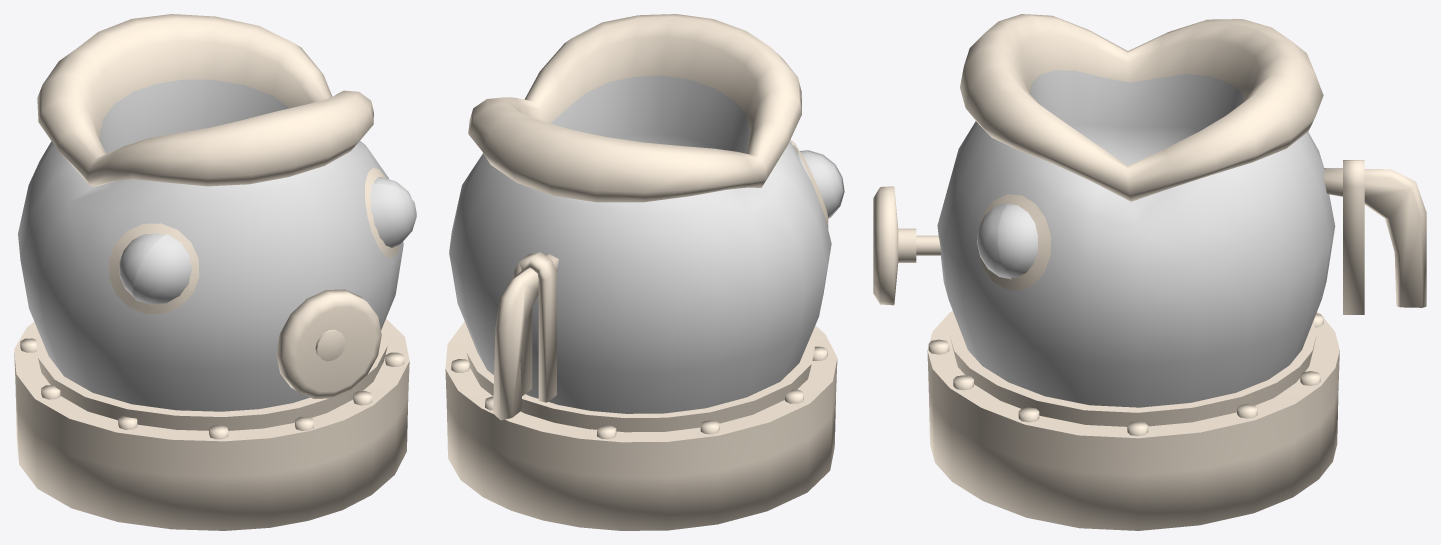
The model's file is Fish_Pipe.fbx.
The picture shows the model from 3 angles, left to right: view 1: azimuth 30°, elevation 25°; view 2: azimuth 150°, elevation 25°; view 3: azimuth 270°, elevation 25°; orthographic projection. The views are drawn at different scales.
Parts seen in each view (by area): view 1: Cube; view 2: Cube; view 3: Cube.
Boxes of the visible parts, box(x1,y1,x2,y2) form: Cube: box(14, 14, 416, 530); Cube: box(445, 14, 844, 530); Cube: box(873, 14, 1426, 530).
Size of the model in its own units: 1.54 by 1.63 by 2.05.
